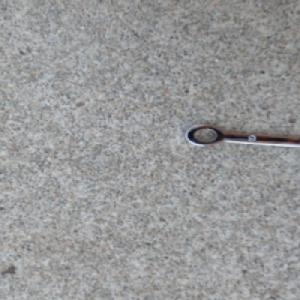Wrench: (184, 122, 300, 149)
